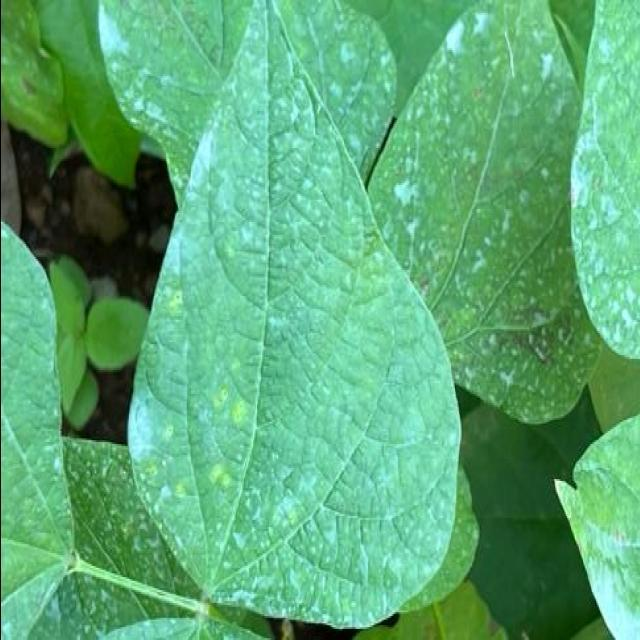embun tepung: (124, 106, 344, 528)
